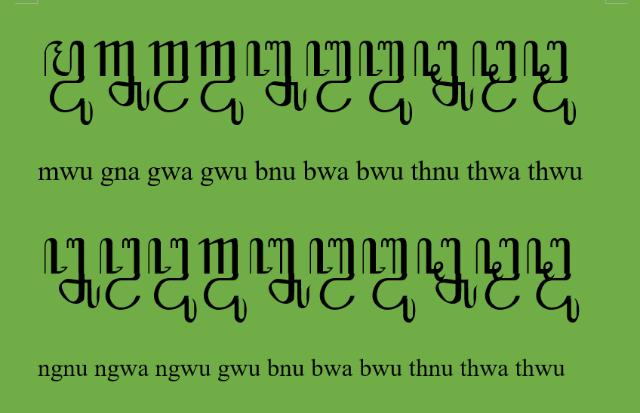bnu: (248, 238, 310, 308), (246, 39, 306, 111)
bw: (309, 238, 356, 311), (306, 41, 352, 113)
bwu: (359, 40, 413, 126), (362, 238, 416, 324)
gnu: (94, 41, 150, 111)
gw: (147, 41, 189, 113)
gwu: (197, 238, 247, 324), (194, 40, 243, 126)
mwu: (44, 40, 94, 126)
ngnu: (44, 238, 100, 308)
ngwa: (99, 238, 141, 311)
ngwu: (146, 237, 198, 323)
thnu: (417, 238, 478, 310), (414, 41, 474, 112)
thw: (472, 40, 518, 114), (476, 238, 520, 311)
thwu: (523, 39, 577, 126), (526, 238, 580, 324)
